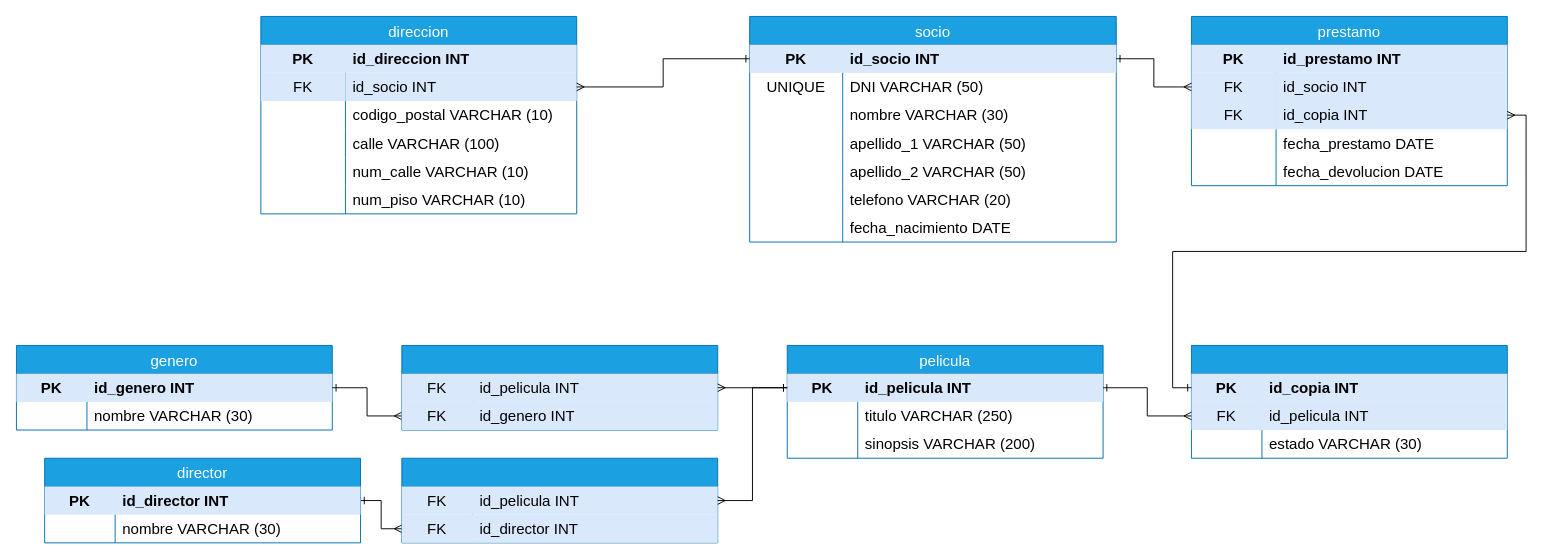
Image size: 1551x559. Some labels were removed from this diagram. Here are the shapes that lost their labels. From the top down, the box of each, then its label:
(401, 345, 718, 430): pelicula_genero
(1191, 345, 1507, 458): copia_pelicula
(401, 457, 718, 543): pelicula_director
